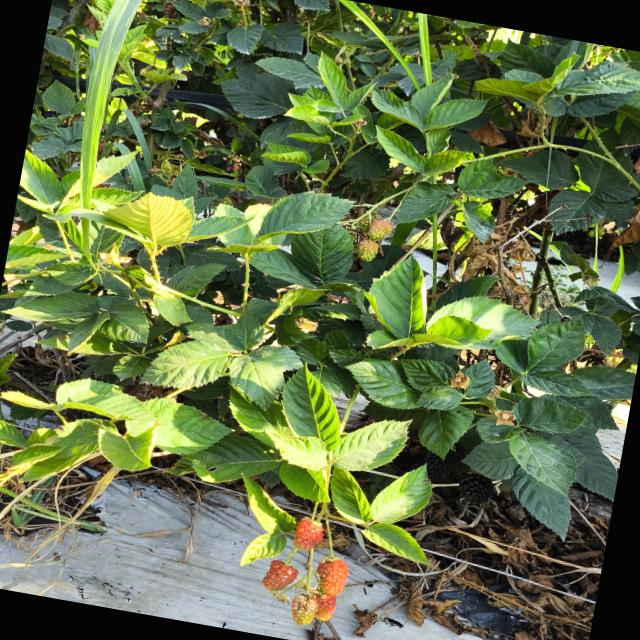naranja: (316, 558, 348, 594), (261, 560, 298, 590), (293, 518, 322, 549), (314, 593, 336, 621)
verde: (291, 593, 317, 625), (367, 218, 392, 240), (357, 238, 378, 261)
